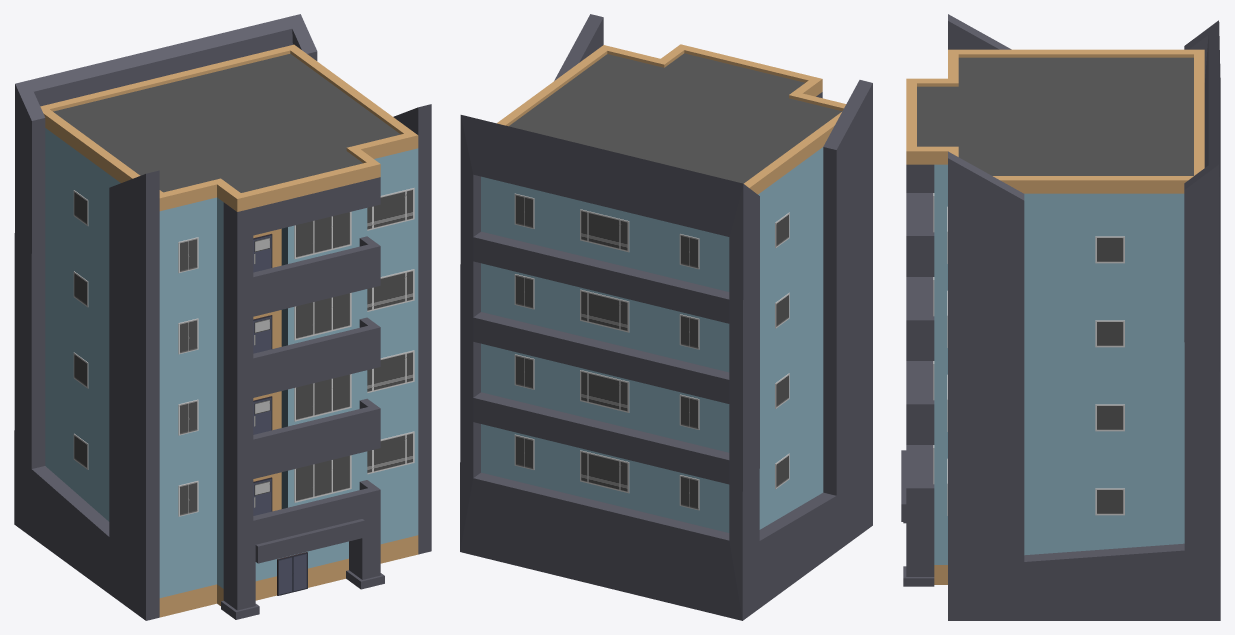
Rendered from building07_color02.fbx.
3 views of the same model, side by side, from view 1: azimuth 30°, elevation 25°; view 2: azimuth 150°, elevation 25°; view 3: azimuth 270°, elevation 25° (orthographic). The views are drawn at different scales.
Visible parts, largest first — view 1: building07_color02; view 2: building07_color02; view 3: building07_color02.
Boxes of the visible parts, x1,y1,x2,y2 form: building07_color02: (14,14,431,620); building07_color02: (460,14,872,620); building07_color02: (901,14,1220,620).
Size of the model in its own units: 1767 by 2644 by 1654.
